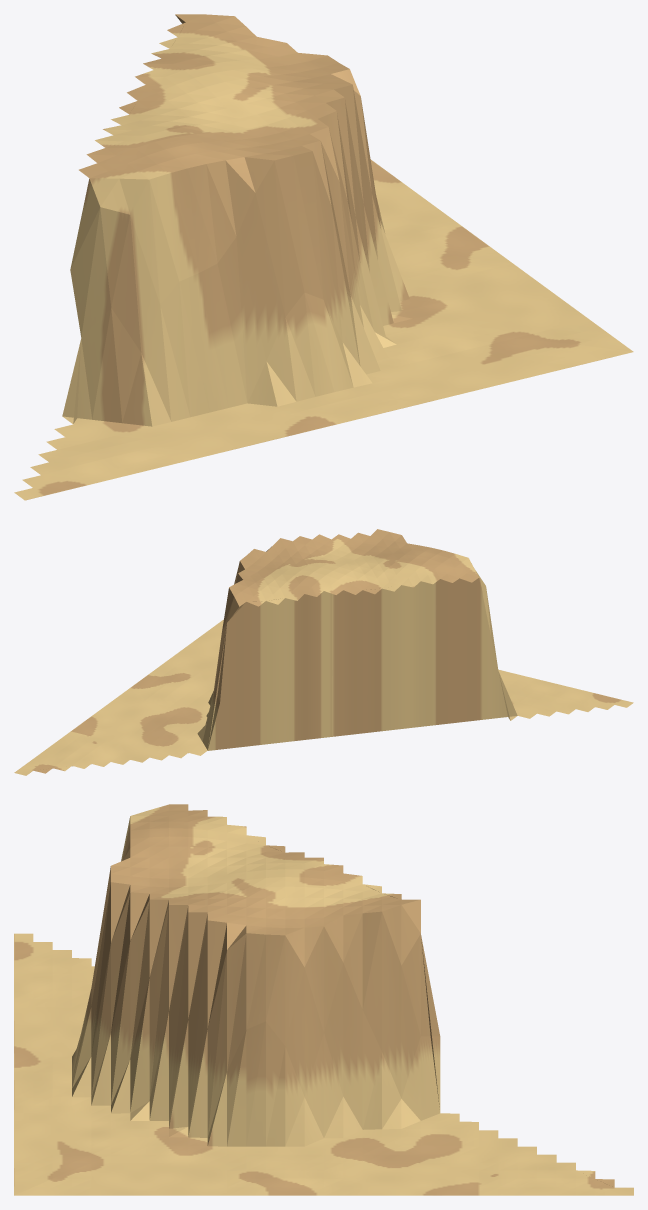
Rendered from Desert_Mountains_06_NE.obj.
The picture shows the model from 3 angles, top to bottom: view 1: azimuth 30°, elevation 25°; view 2: azimuth 150°, elevation 25°; view 3: azimuth 270°, elevation 25°; orthographic projection. The views are drawn at different scales.
Bounding box in the file's own units: 10 × 3.63 × 10.
1 material, 1 textured.
